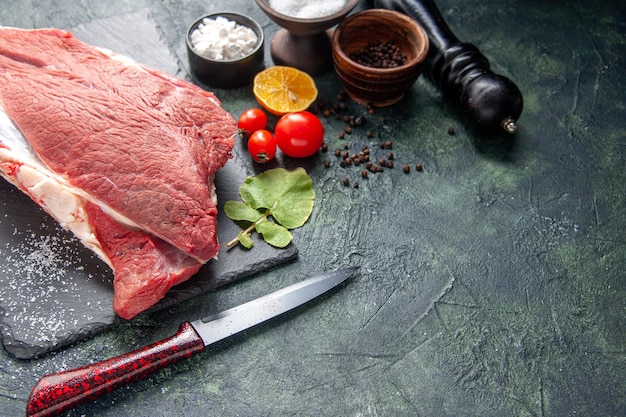knife: (24, 264, 365, 417)
